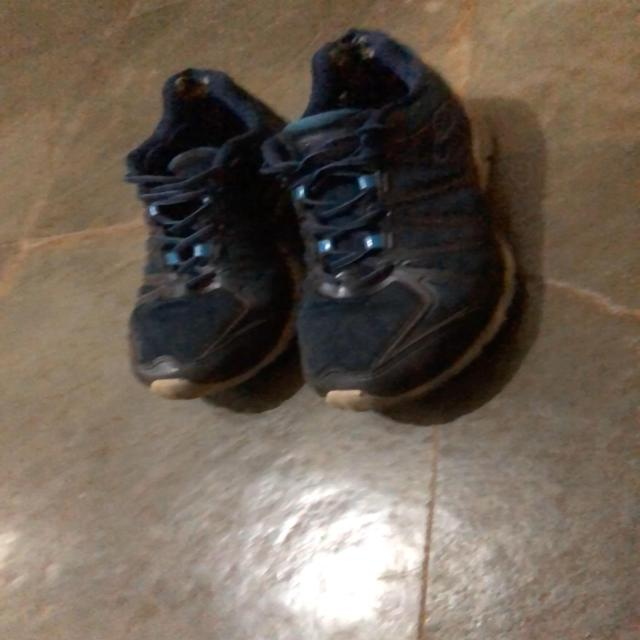shoe: (263, 34, 482, 395), (126, 69, 280, 391)
